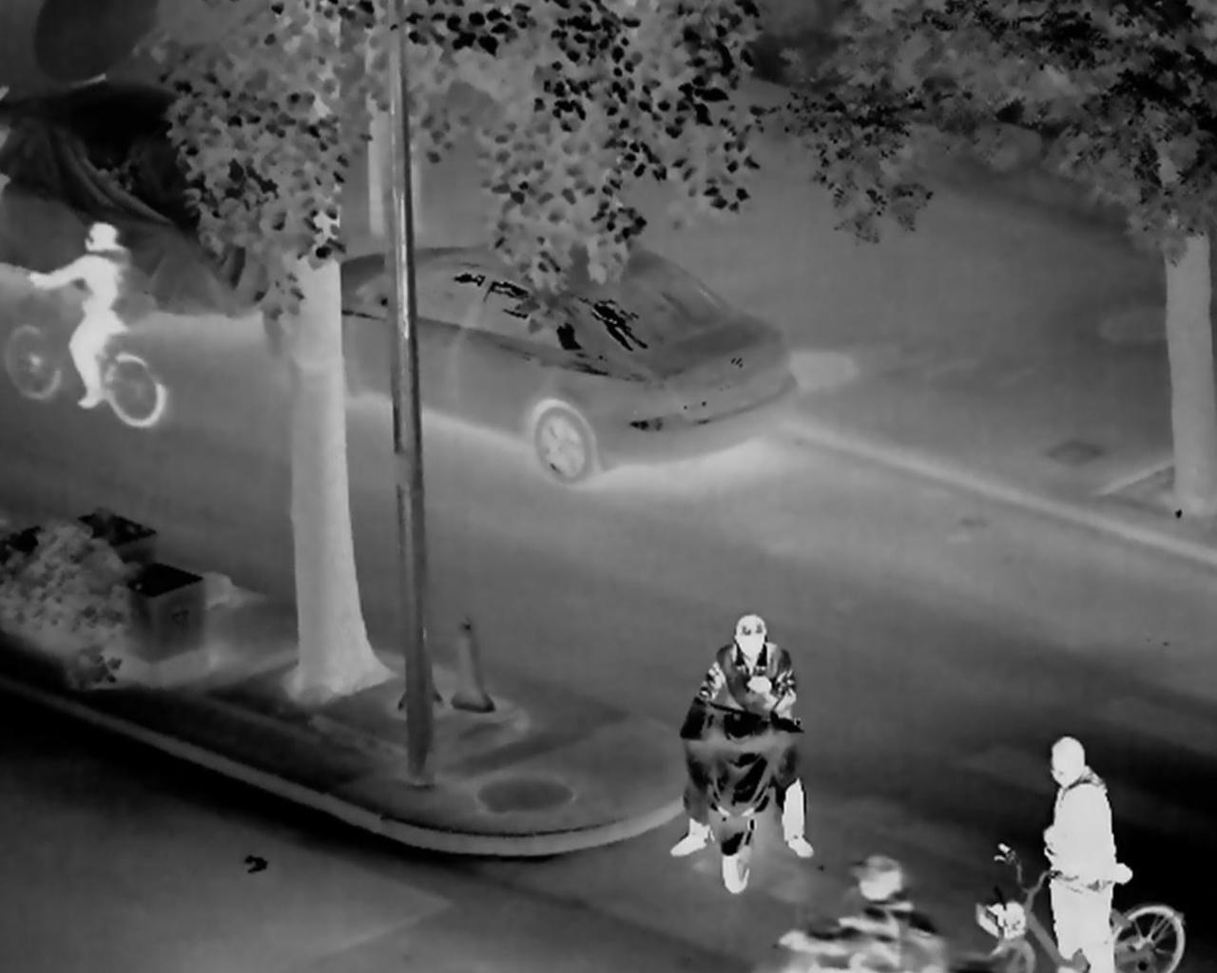person: (650, 590, 839, 900), (1014, 728, 1146, 973), (27, 216, 145, 438), (823, 862, 947, 973)
